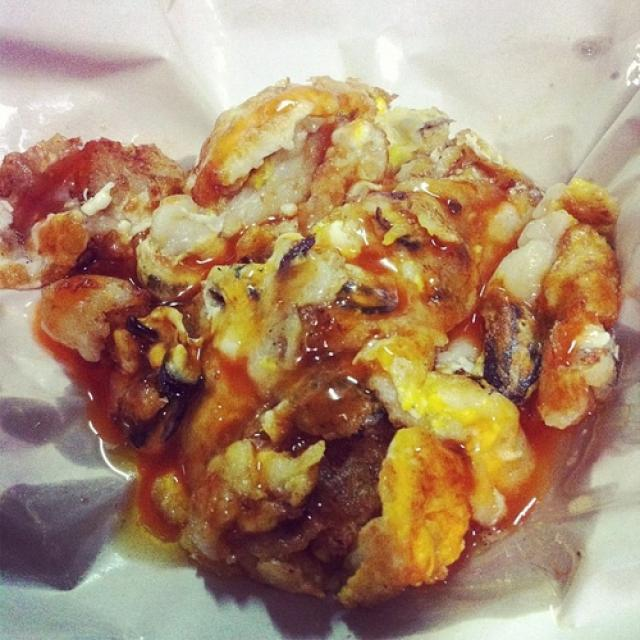炸货点心: (5, 15, 616, 621)
蛋糕甜品: (5, 15, 616, 621)
